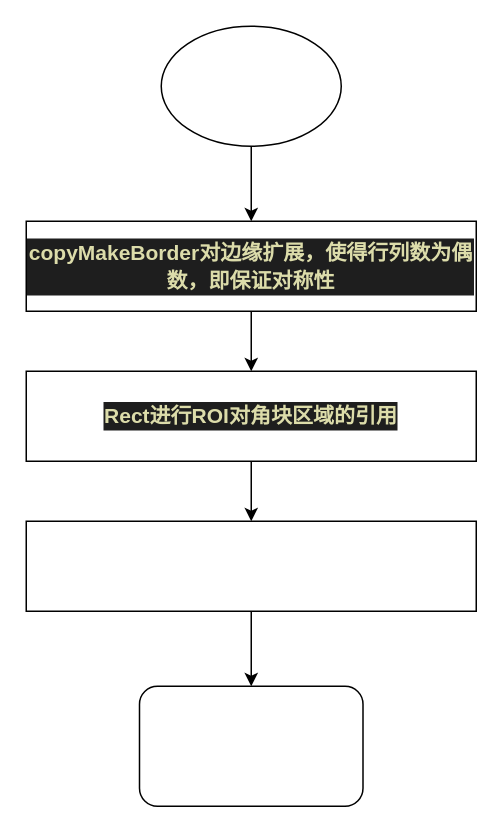
The diagram is 503 pixels wide and 833 high, and some of its shapes have lost their labels. Here are the shapes that lost their labels. From the top down, the centre of each, then its label:
At (x=250, y=85): "输入原始幅度谱".
At (x=250, y=565): "通过四个块引用和temp进行对角互换".
